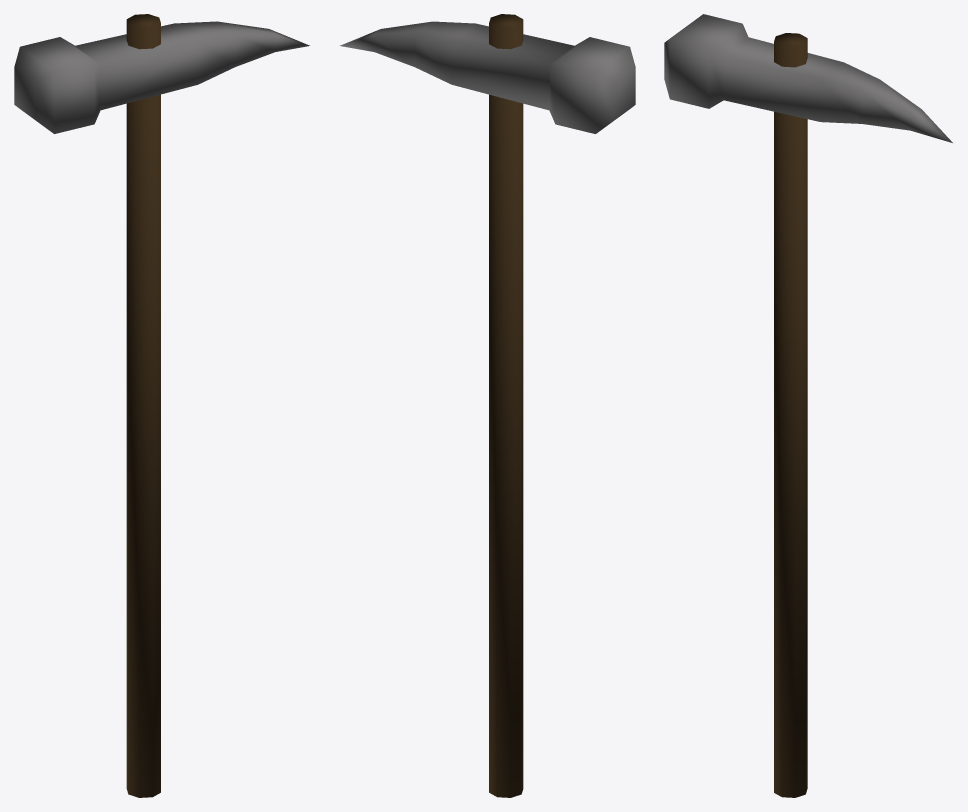
File: war-hammer.glb
The picture shows the model from 3 angles, left to right: view 1: azimuth 30°, elevation 25°; view 2: azimuth 150°, elevation 25°; view 3: azimuth 330°, elevation 25°; orthographic projection. The views are drawn at different scales.
Parts seen in each view (by area): view 1: 1H - Warhammer - Ralchire (Ryan Hetchler); view 2: 1H - Warhammer - Ralchire (Ryan Hetchler); view 3: 1H - Warhammer - Ralchire (Ryan Hetchler).
Boxes of the visible parts, x1,y1,x2,y2 form: 1H - Warhammer - Ralchire (Ryan Hetchler): [14, 14, 309, 797]; 1H - Warhammer - Ralchire (Ryan Hetchler): [340, 14, 635, 797]; 1H - Warhammer - Ralchire (Ryan Hetchler): [664, 14, 952, 797].
Size of the model in its own units: 0.3432 by 0.8835 by 0.0716.
